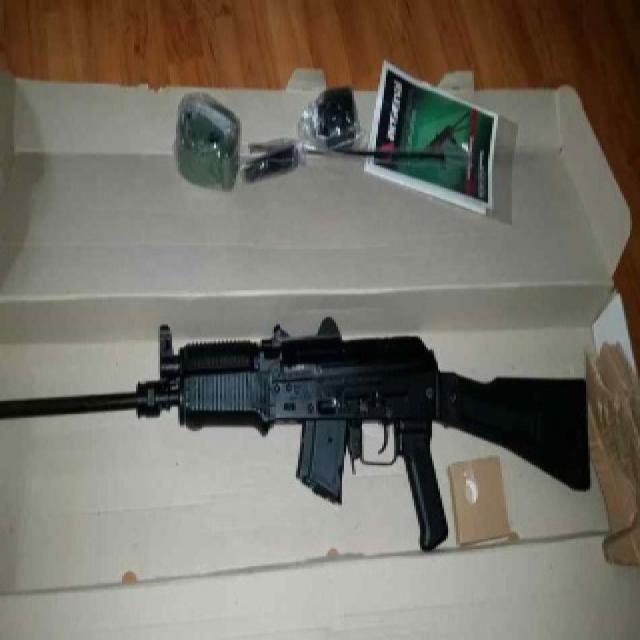long weapon: (6, 320, 594, 552)
